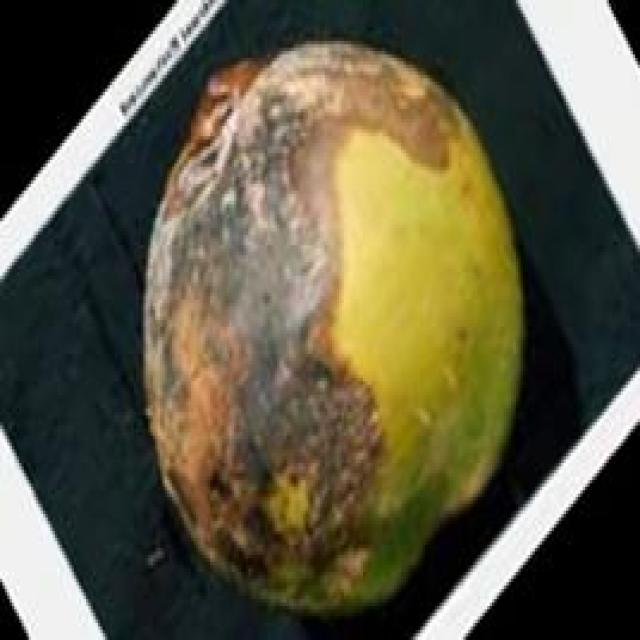damaged: (143, 41, 521, 609)
